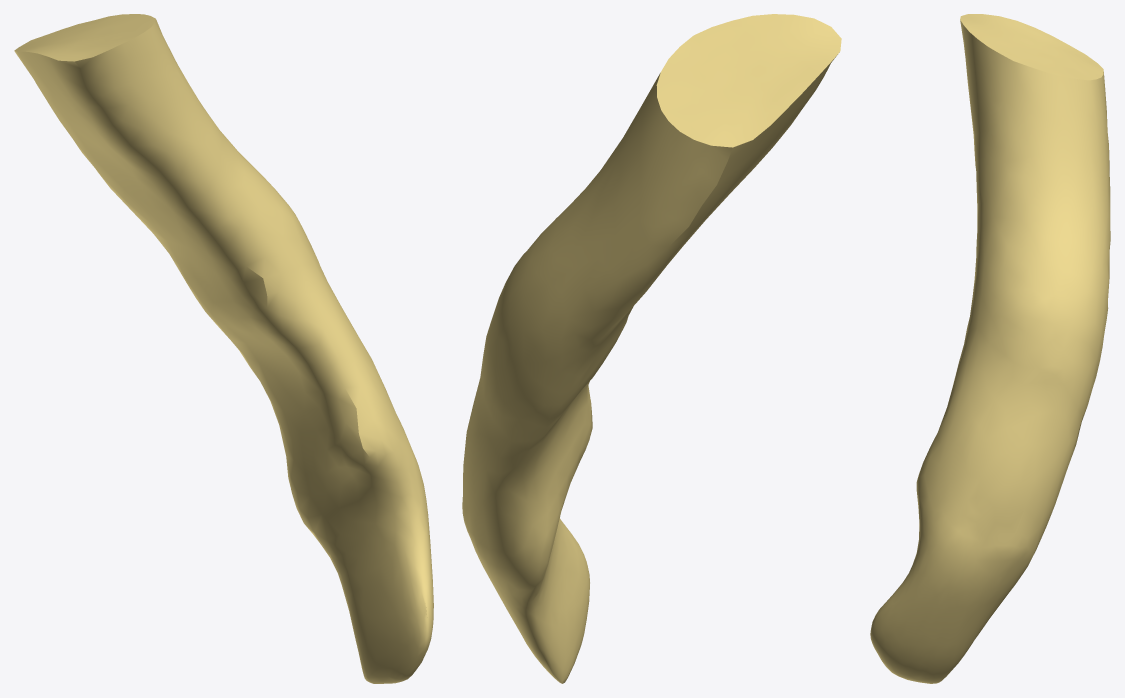
The model's file is fma73389_mm2994m.glb.
The picture shows the model from 3 angles, left to right: view 1: azimuth 30°, elevation 25°; view 2: azimuth 150°, elevation 25°; view 3: azimuth 270°, elevation 25°; orthographic projection. The views are drawn at different scales.
Parts seen in each view (by area): view 1: FMA73389_MM2994M; view 2: FMA73389_MM2994M; view 3: FMA73389_MM2994M.
Part boxes in pixels (left/top/right/bottom): FMA73389_MM2994M: left=14, top=14, right=433, bottom=683; FMA73389_MM2994M: left=462, top=14, right=841, bottom=683; FMA73389_MM2994M: left=870, top=14, right=1110, bottom=683.
Bounding box in the file's own units: 0.00699 × 0.0133 × 0.00511.
